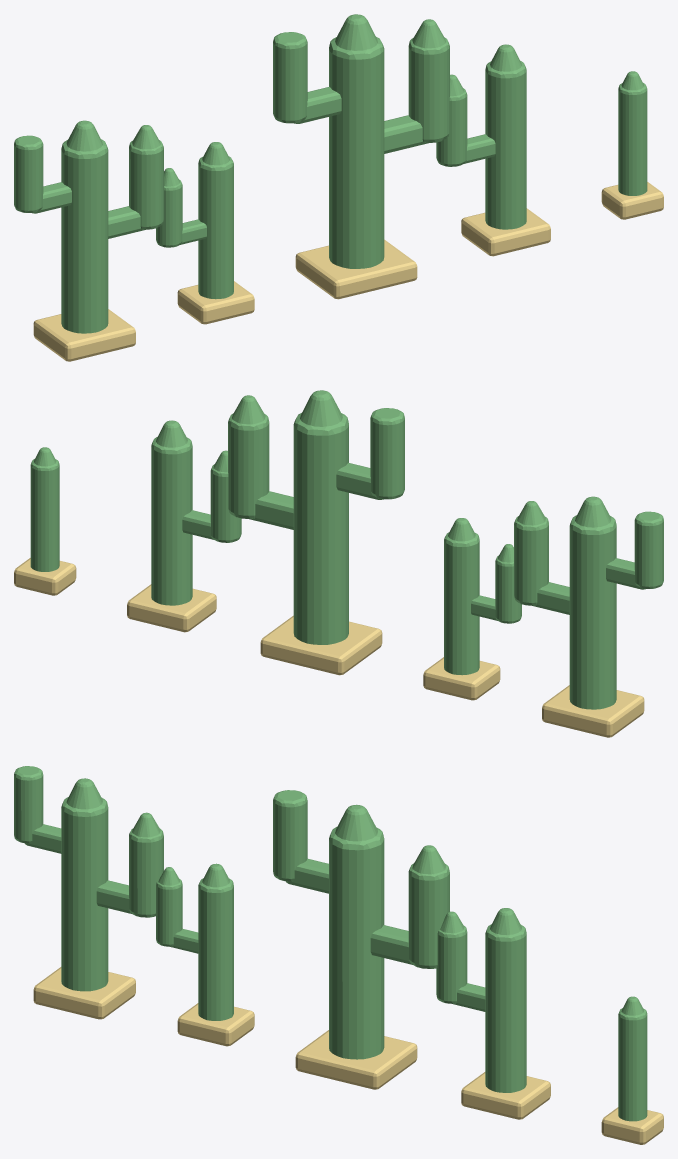
The model's file is 10-cactus-set.glb.
The picture shows the model from 3 angles, top to bottom: view 1: azimuth 30°, elevation 25°; view 2: azimuth 150°, elevation 25°; view 3: azimuth 330°, elevation 25°; orthographic projection.
Parts seen in each view (by area): view 1: Cactus_2_Stem, Cactus_0_Stem, Cactus_3_Stem, Cactus_1_Stem, Cactus_2_SandBase, Cactus_2_Arm, Cactus_4_Stem, Cactus_2_Arm2, Cactus_0_SandBase, Cactus_0_Arm, Cactus_3_SandBase, Cactus_0_Arm2 (+15 smaller); view 2: Cactus_2_Stem, Cactus_0_Stem, Cactus_3_Stem, Cactus_1_Stem, Cactus_2_SandBase, Cactus_2_Arm, Cactus_4_Stem, Cactus_2_Arm2, Cactus_0_SandBase, Cactus_0_Arm, Cactus_3_SandBase, Cactus_0_Arm2 (+15 smaller); view 3: Cactus_2_Stem, Cactus_0_Stem, Cactus_3_Stem, Cactus_1_Stem, Cactus_2_SandBase, Cactus_2_Arm, Cactus_4_Stem, Cactus_0_SandBase, Cactus_2_Arm2, Cactus_0_Arm, Cactus_3_SandBase, Cactus_0_Arm2 (+13 smaller).
Boxes of the visible parts, left/top/right/bottom form: Cactus_2_Stem: left=329, top=37, right=384, bottom=268; Cactus_0_Stem: left=61, top=139, right=108, bottom=333; Cactus_3_Stem: left=485, top=61, right=526, bottom=229; Cactus_1_Stem: left=198, top=156, right=233, bottom=299; Cactus_2_SandBase: left=295, top=239, right=417, bottom=299; Cactus_2_Arm: left=408, top=37, right=449, bottom=142; Cactus_4_Stem: left=618, top=83, right=647, bottom=195; Cactus_2_Arm2: left=273, top=32, right=307, bottom=123; Cactus_0_SandBase: left=33, top=309, right=135, bottom=361; Cactus_0_Arm: left=129, top=140, right=163, bottom=229; Cactus_3_SandBase: left=461, top=208, right=550, bottom=256; Cactus_0_Arm2: left=14, top=135, right=43, bottom=212; Cactus_2_Stem: left=293, top=413, right=348, bottom=644; Cactus_0_Stem: left=569, top=515, right=616, bottom=709; Cactus_3_Stem: left=151, top=437, right=192, bottom=605; Cactus_1_Stem: left=444, top=532, right=479, bottom=675; Cactus_2_SandBase: left=260, top=615, right=382, bottom=675; Cactus_2_Arm: left=228, top=413, right=269, bottom=518; Cactus_4_Stem: left=30, top=459, right=59, bottom=571; Cactus_2_Arm2: left=370, top=408, right=404, bottom=499; Cactus_0_SandBase: left=542, top=685, right=644, bottom=737; Cactus_0_Arm: left=514, top=516, right=548, bottom=605; Cactus_3_SandBase: left=127, top=584, right=216, bottom=632; Cactus_0_Arm2: left=634, top=511, right=663, bottom=588; Cactus_2_Stem: left=329, top=827, right=384, bottom=1059; Cactus_0_Stem: left=61, top=797, right=108, bottom=991; Cactus_3_Stem: left=485, top=924, right=526, bottom=1092; Cactus_1_Stem: left=198, top=878, right=233, bottom=1020; Cactus_2_SandBase: left=295, top=1030, right=417, bottom=1089; Cactus_2_Arm: left=408, top=863, right=449, bottom=968; Cactus_4_Stem: left=618, top=1008, right=647, bottom=1121; Cactus_0_SandBase: left=33, top=967, right=135, bottom=1019; Cactus_2_Arm2: left=273, top=790, right=307, bottom=881; Cactus_0_Arm: left=129, top=828, right=163, bottom=917; Cactus_3_SandBase: left=461, top=1072, right=550, bottom=1119; Cactus_0_Arm2: left=14, top=766, right=43, bottom=843.
Bounding box in the file's own units: 7.05 × 2.74 × 0.8024.
